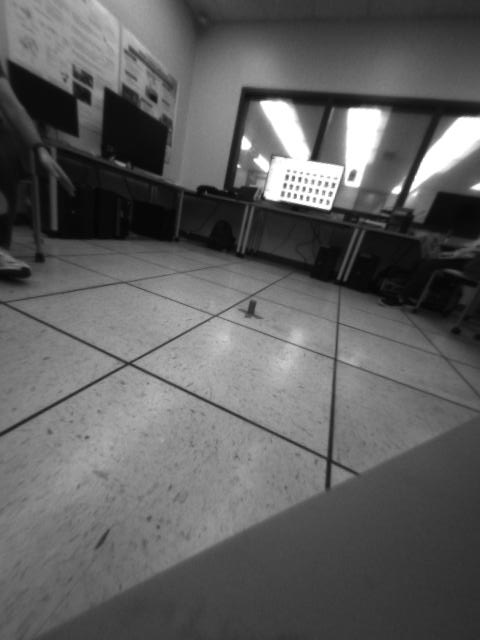X: (237, 300, 265, 321)
